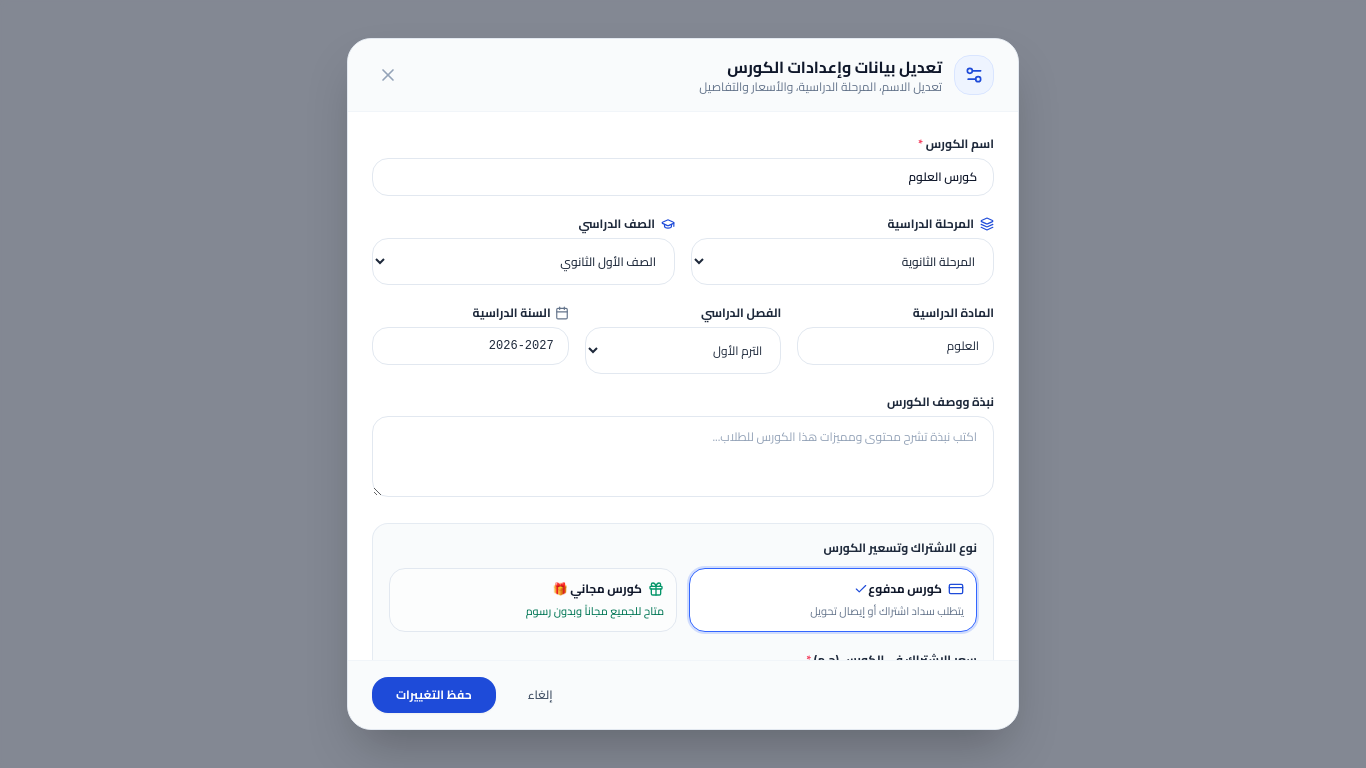
Test: Arabic Localized Course Learning Room & Multi-Level Tabs › EditCourseModal direct component tests › updates grade levels automatically when changing academic stage
expect the heading "تعديل بيانات وإعدادات الكورس" is shown: met, box left=699, top=55, right=942, bottom=79
// Change to preparatory stage
Select "المرحلة الإعدادية" in the 2nd dropdown showing "المرحلة الثانوية" at (842, 262), box left=691, top=238, right=994, bottom=285
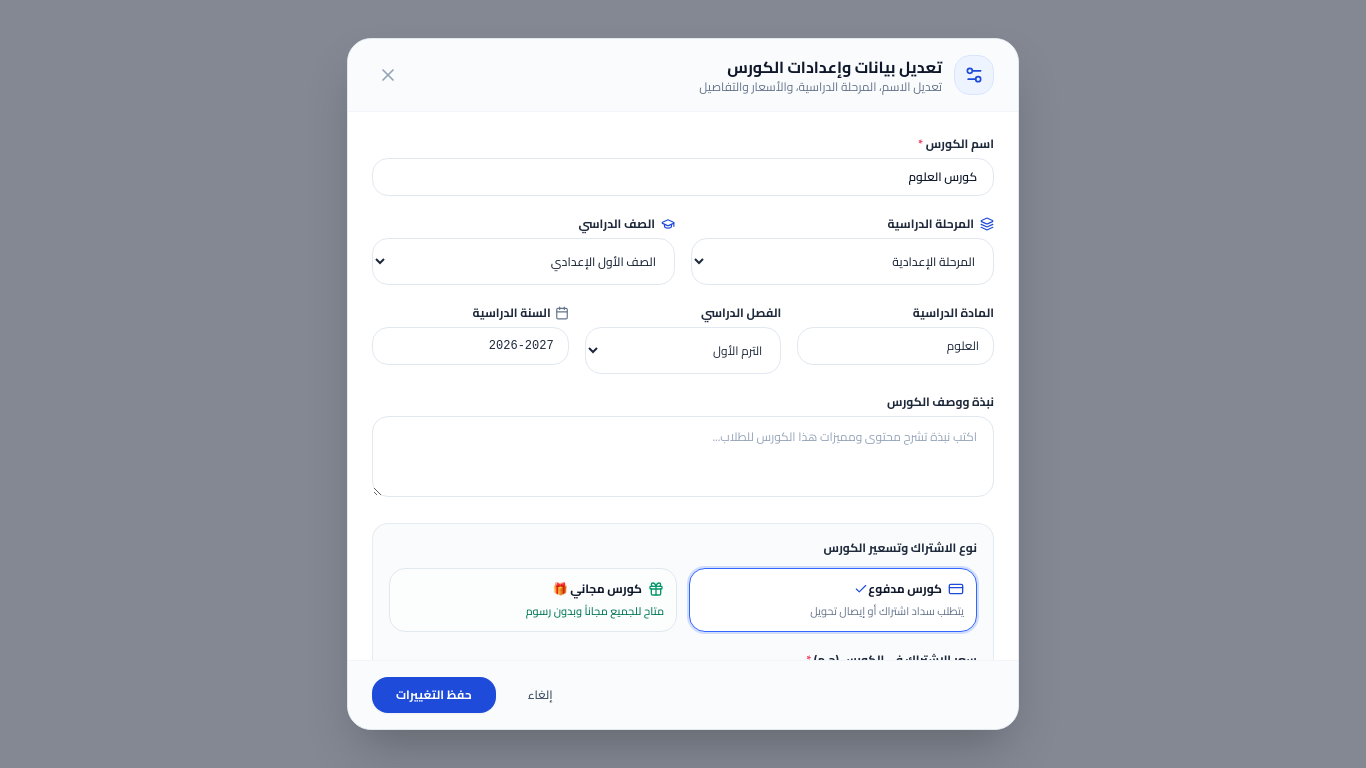
expect the dropdown showing "الصف الأول الإعدادي" below "الصف الدراسي" is shown: met, box left=372, top=238, right=675, bottom=285
